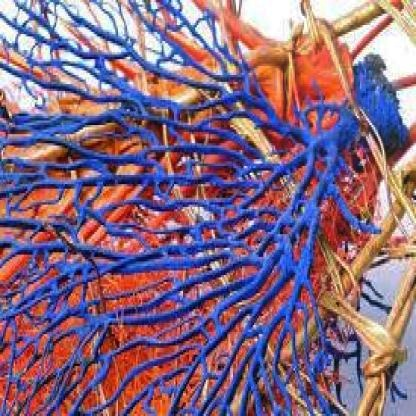net: (2, 16, 366, 416)
